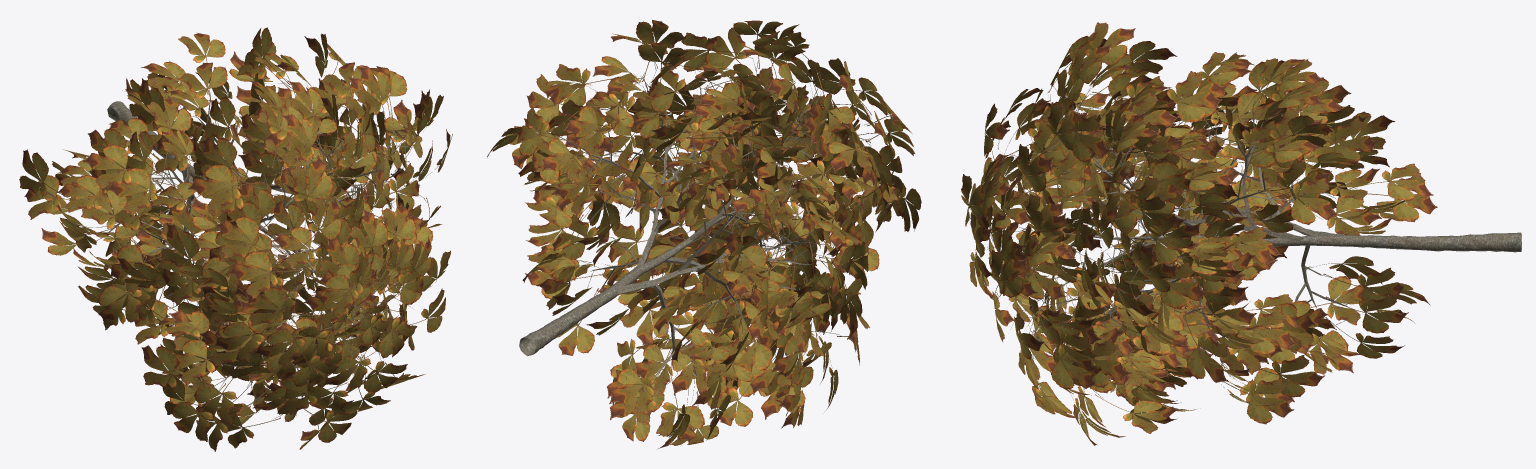
3 renders of one model, left to right at view 1: azimuth 30°, elevation 25°; view 2: azimuth 150°, elevation 25°; view 3: azimuth 270°, elevation 25°, orthographic. The views are drawn at different scales.
Visible parts, largest first — view 1: AL05y; view 2: AL05y; view 3: AL05y.
Boxes of the visible parts, left/top/right/bottom form: AL05y: left=19, top=27, right=452, bottom=451; AL05y: left=487, top=20, right=921, bottom=449; AL05y: left=961, top=22, right=1521, bottom=445.
Size of the model in its own units: 33.13 by 33.45 by 42.87.
2 materials, 2 textured.
